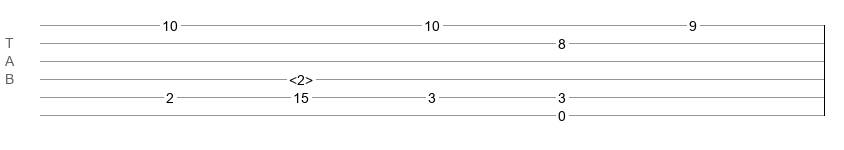0: (558, 108, 566, 118)
10: (162, 18, 178, 28), (424, 18, 440, 28)
15: (293, 90, 309, 100)
2: (166, 90, 174, 100)
3: (428, 90, 436, 100), (558, 90, 566, 100)
8: (558, 36, 566, 46)
9: (689, 18, 697, 28)
harmonic: (289, 72, 313, 82)
